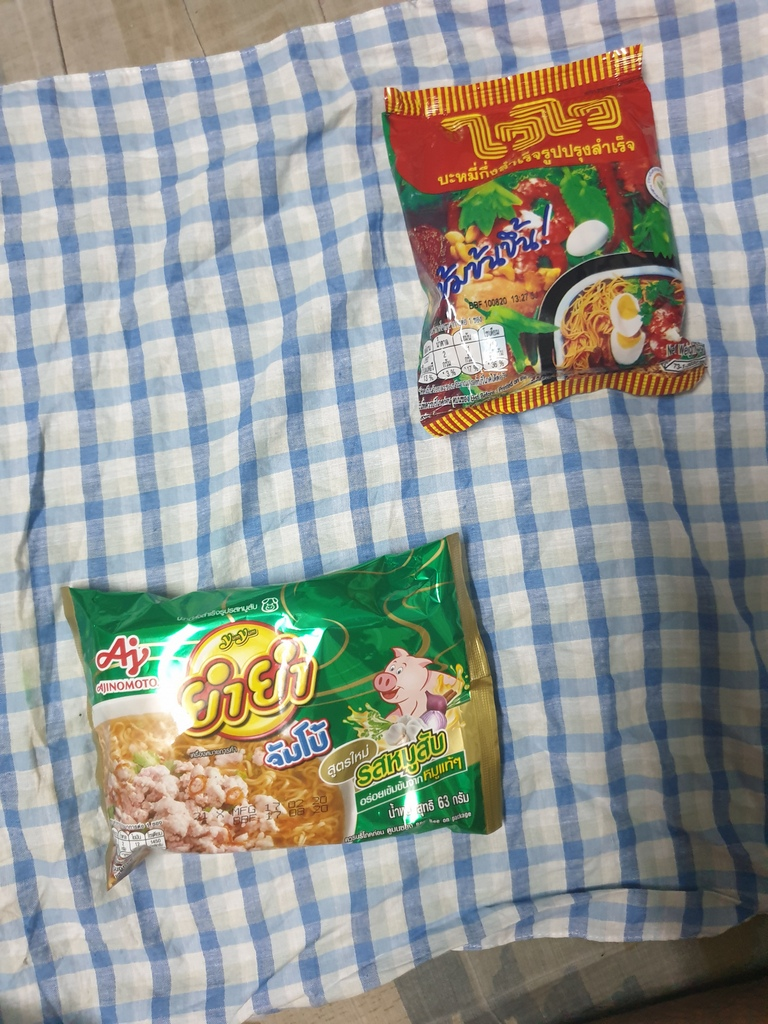waiwai: (385, 71, 721, 406)
yumyum: (55, 571, 513, 857)
